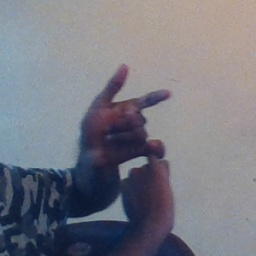S: (76, 64, 186, 211)
